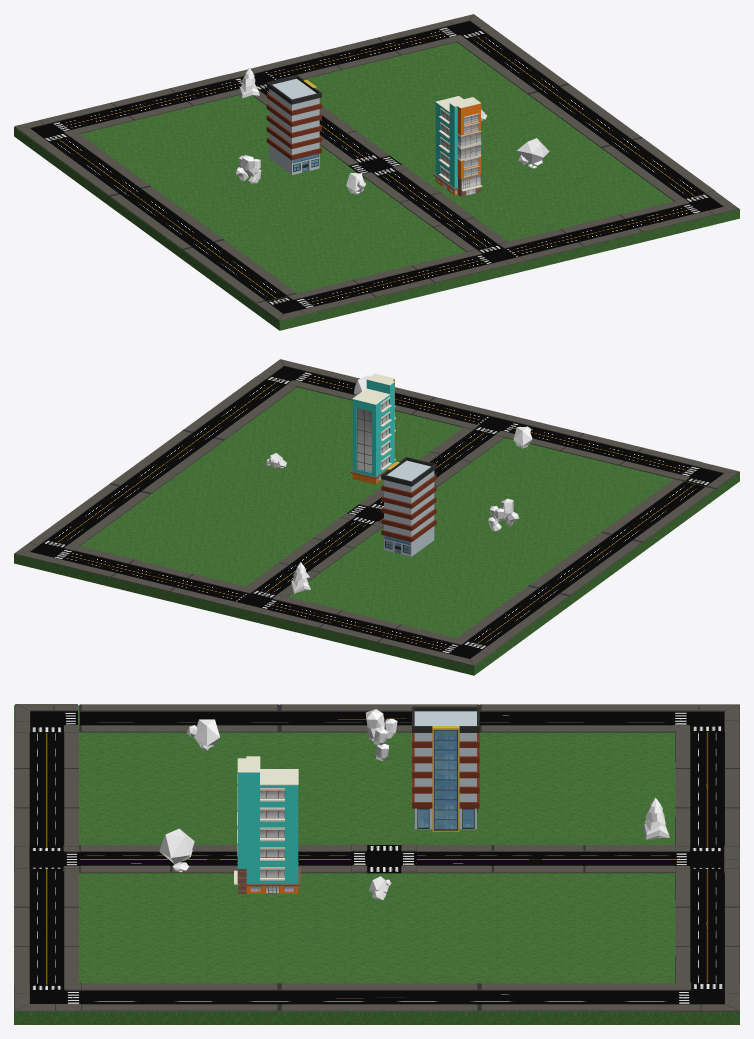
3 views of the same model, one above another, from view 1: azimuth 30°, elevation 25°; view 2: azimuth 150°, elevation 25°; view 3: azimuth 270°, elevation 25° (orthographic). The views are drawn at different scales.
Parts seen in each view (by area): view 1: Plane, Road.003, Road.005, Low poly building, Road.002, Road.004, Road.007, Road, Road.006, Stylised low poly building, Road.001, Cube.054 (+6 smaller); view 2: Plane, Road.003, Road.005, Low poly building, Road.007, Road.006, Road.004, Road.001, Road.002, Stylised low poly building, Road, Cube.054 (+7 smaller); view 3: Plane, Road.003, Road.005, Road.001, Road.002, Road.007, Road.006, Road.004, Stylised low poly building, Road, Low poly building, Cube.012 (+10 smaller).
Part boxes in pixels (x1,y1,x2,y2): Plane: (14, 42, 739, 330); Road.003: (456, 31, 714, 201); Road.005: (36, 133, 296, 303); Low poly building: (266, 75, 321, 174); Road.002: (502, 201, 701, 260); Road.004: (294, 251, 493, 311); Road.007: (54, 74, 241, 133); Road: (367, 169, 507, 251); Road.006: (260, 24, 458, 79); Stylised low poly building: (433, 96, 482, 196); Road.001: (252, 88, 390, 165); Cube.054: (437, 110, 480, 195); Plane: (14, 387, 739, 675); Road.003: (38, 377, 296, 546); Road.005: (457, 478, 715, 649); Low poly building: (381, 457, 436, 556); Road.007: (260, 596, 457, 656); Road.006: (52, 546, 251, 606); Road.004: (502, 419, 700, 479); Road.001: (246, 515, 381, 596); Road.002: (297, 369, 493, 428); Stylised low poly building: (350, 373, 395, 484); Road: (365, 427, 504, 504); Cube.054: (357, 399, 394, 481); Plane: (14, 705, 739, 1024); Road.003: (79, 983, 676, 1011); Road.005: (79, 704, 674, 732); Road.001: (401, 845, 675, 873); Road.002: (14, 868, 78, 985); Road.007: (675, 731, 739, 847); Road.006: (675, 868, 739, 985); Road.004: (14, 729, 78, 847); Stylised low poly building: (234, 756, 300, 893); Road: (79, 845, 354, 873); Low poly building: (412, 706, 479, 831); Cube.012: (414, 730, 477, 830).
Size of the model in its own units: 20.01 by 4.1 by 20.01.
Materials: 15 (7 with a texture image).
